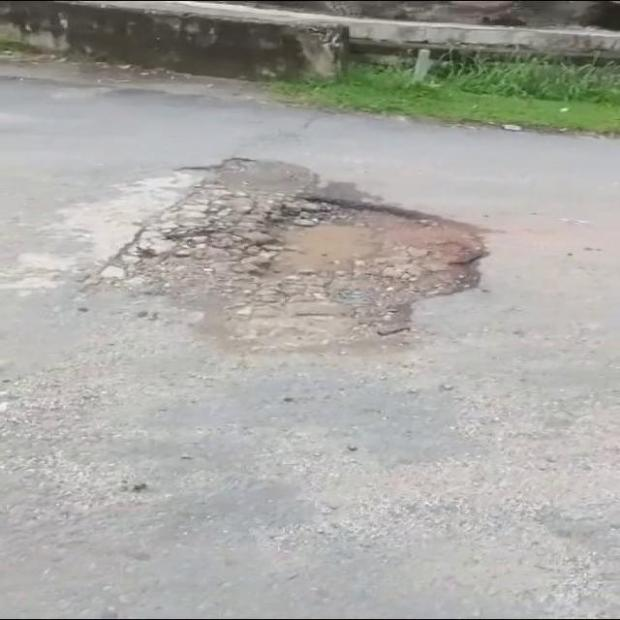lubang: (99, 158, 485, 349)
